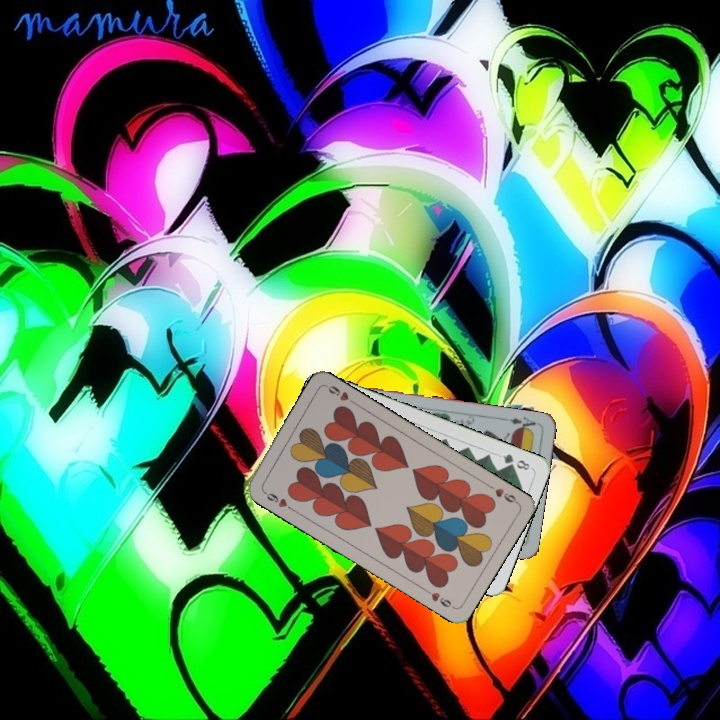EA: (506, 413, 541, 434)
G8: (499, 450, 532, 473)
H9: (259, 486, 295, 513), (484, 480, 521, 506)
